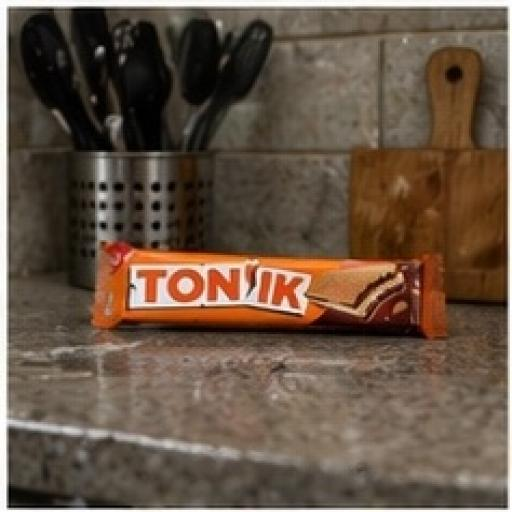tonik: (42, 137, 469, 428)
